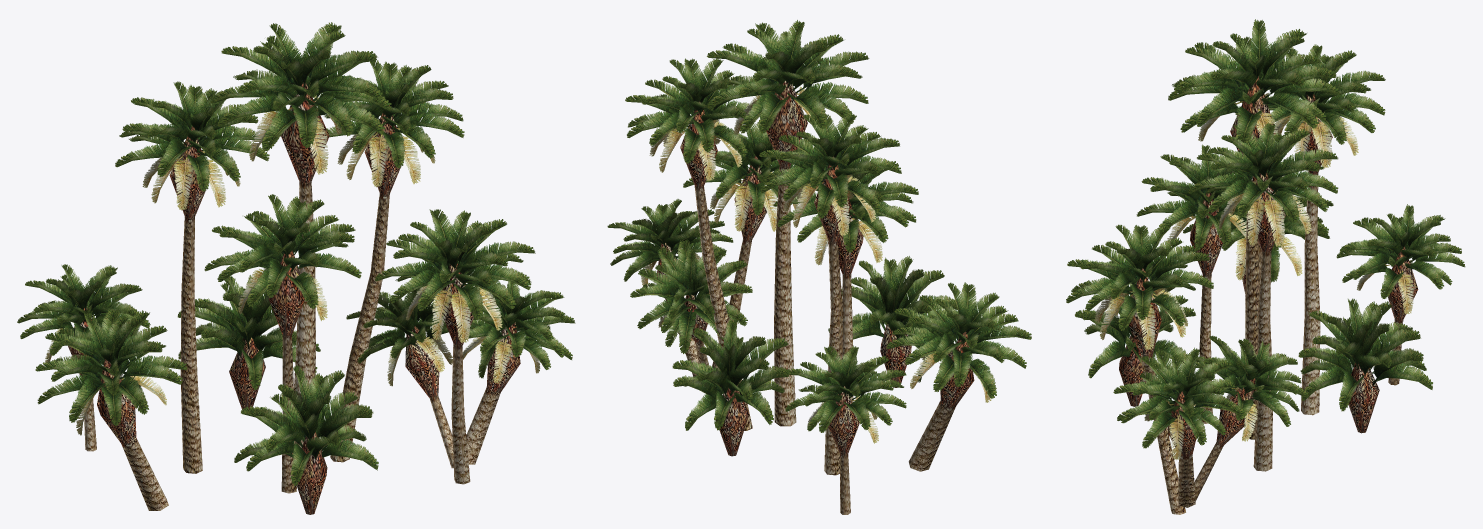
Rendered from campaign_trees_palms.dae.
The picture shows the model from 3 angles, left to right: view 1: azimuth 30°, elevation 25°; view 2: azimuth 150°, elevation 25°; view 3: azimuth 270°, elevation 25°; orthographic projection. The views are drawn at different scales.
Parts seen in each view (by area): view 1: tree_cretan_date_palm_014; view 2: tree_cretan_date_palm_014; view 3: tree_cretan_date_palm_014.
Boxes of the visible parts, x1,y1,x2,y2 form: tree_cretan_date_palm_014: (17,22,575,514); tree_cretan_date_palm_014: (607,20,1031,514); tree_cretan_date_palm_014: (1066,19,1465,514).
Size of the model in its own units: 8.26 by 7.24 by 6.28.
